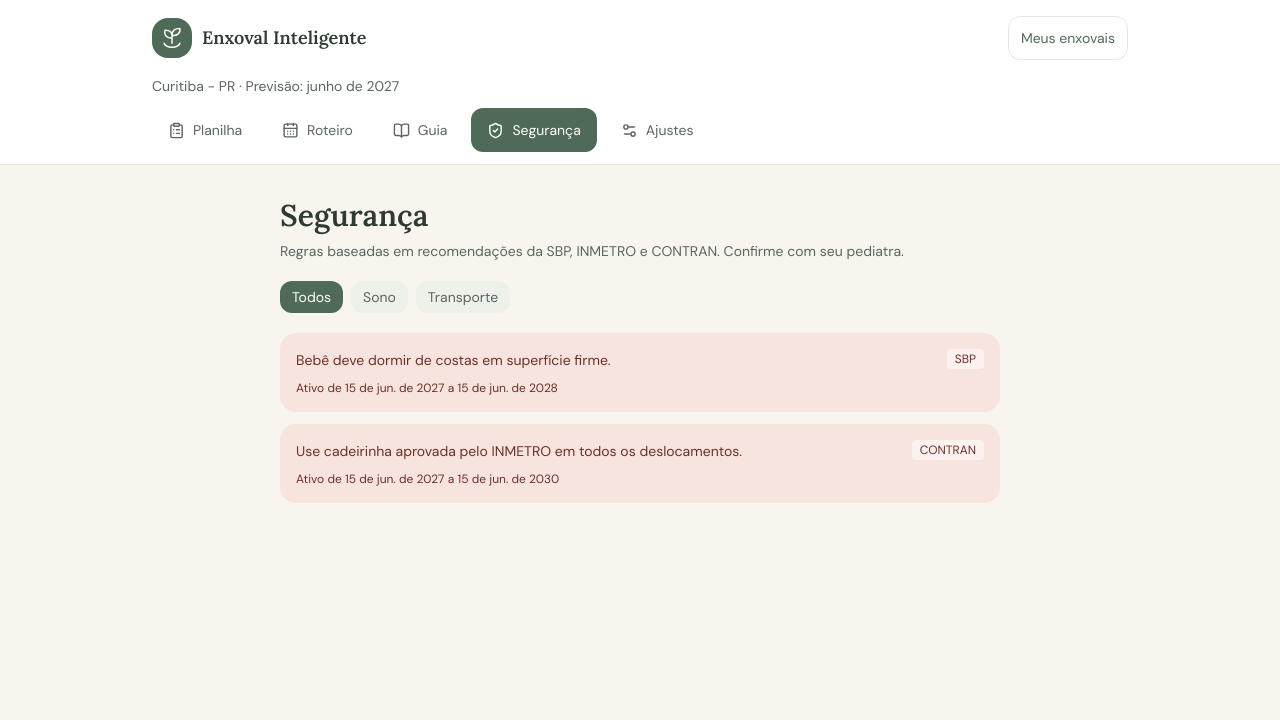
Scenario: Segurança › filtra alertas por tema
Check: the text "Bebê deve dormir de costas em superfície firme." is shown, box [296,351,611,369]
Click the button "Transporte".
click(463, 297)  # box [416,281,510,313]
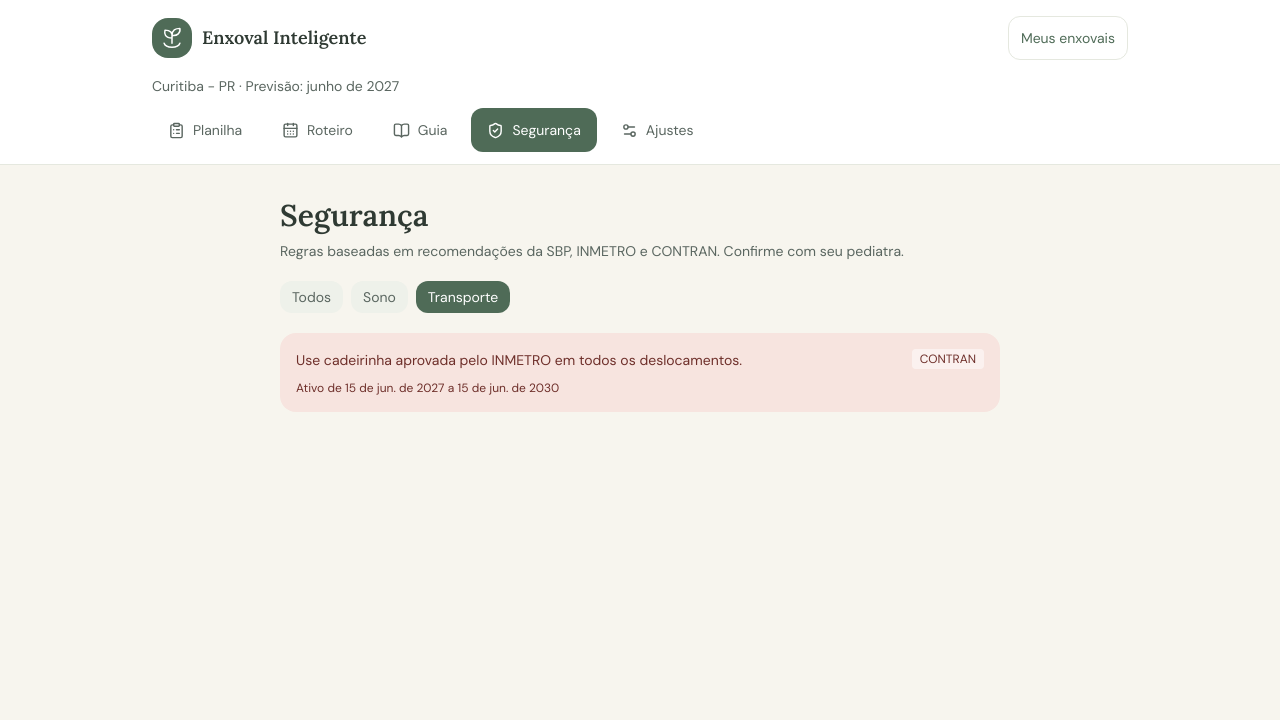
Check: the text "Use cadeirinha aprovada pelo INMETRO em todos os deslocamentos." is shown, box [296,351,742,369]
Check: the text "Bebê deve dormir de costas em superfície firme." is gone
